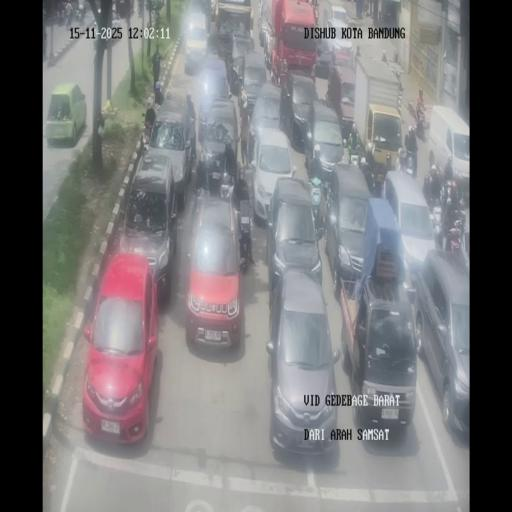car: (82, 252, 159, 443), (266, 270, 338, 458), (342, 266, 418, 439), (414, 248, 469, 442), (184, 196, 244, 350), (119, 153, 179, 296), (384, 169, 438, 293), (326, 163, 374, 290), (250, 126, 298, 227), (150, 98, 192, 190), (306, 95, 344, 180), (44, 82, 86, 146), (198, 56, 232, 126), (240, 50, 268, 108), (183, 10, 208, 72), (258, 1, 275, 63), (327, 19, 353, 57), (315, 38, 333, 78), (82, 10, 98, 42), (210, 0, 217, 20), (112, 9, 120, 22)
motorcycle: (236, 194, 254, 269), (308, 172, 325, 235), (430, 200, 446, 246), (444, 218, 463, 254), (370, 158, 387, 198), (440, 177, 460, 211), (141, 111, 155, 147), (405, 144, 418, 178), (347, 138, 362, 167), (415, 106, 427, 140), (444, 155, 454, 181), (95, 114, 105, 140), (74, 2, 86, 22), (311, 0, 320, 24), (64, 4, 73, 26), (57, 2, 65, 20), (150, 5, 157, 24), (362, 0, 369, 18), (137, 0, 144, 17)
truck: (352, 56, 401, 175), (270, 0, 318, 84), (428, 107, 469, 197), (213, 0, 254, 42)
